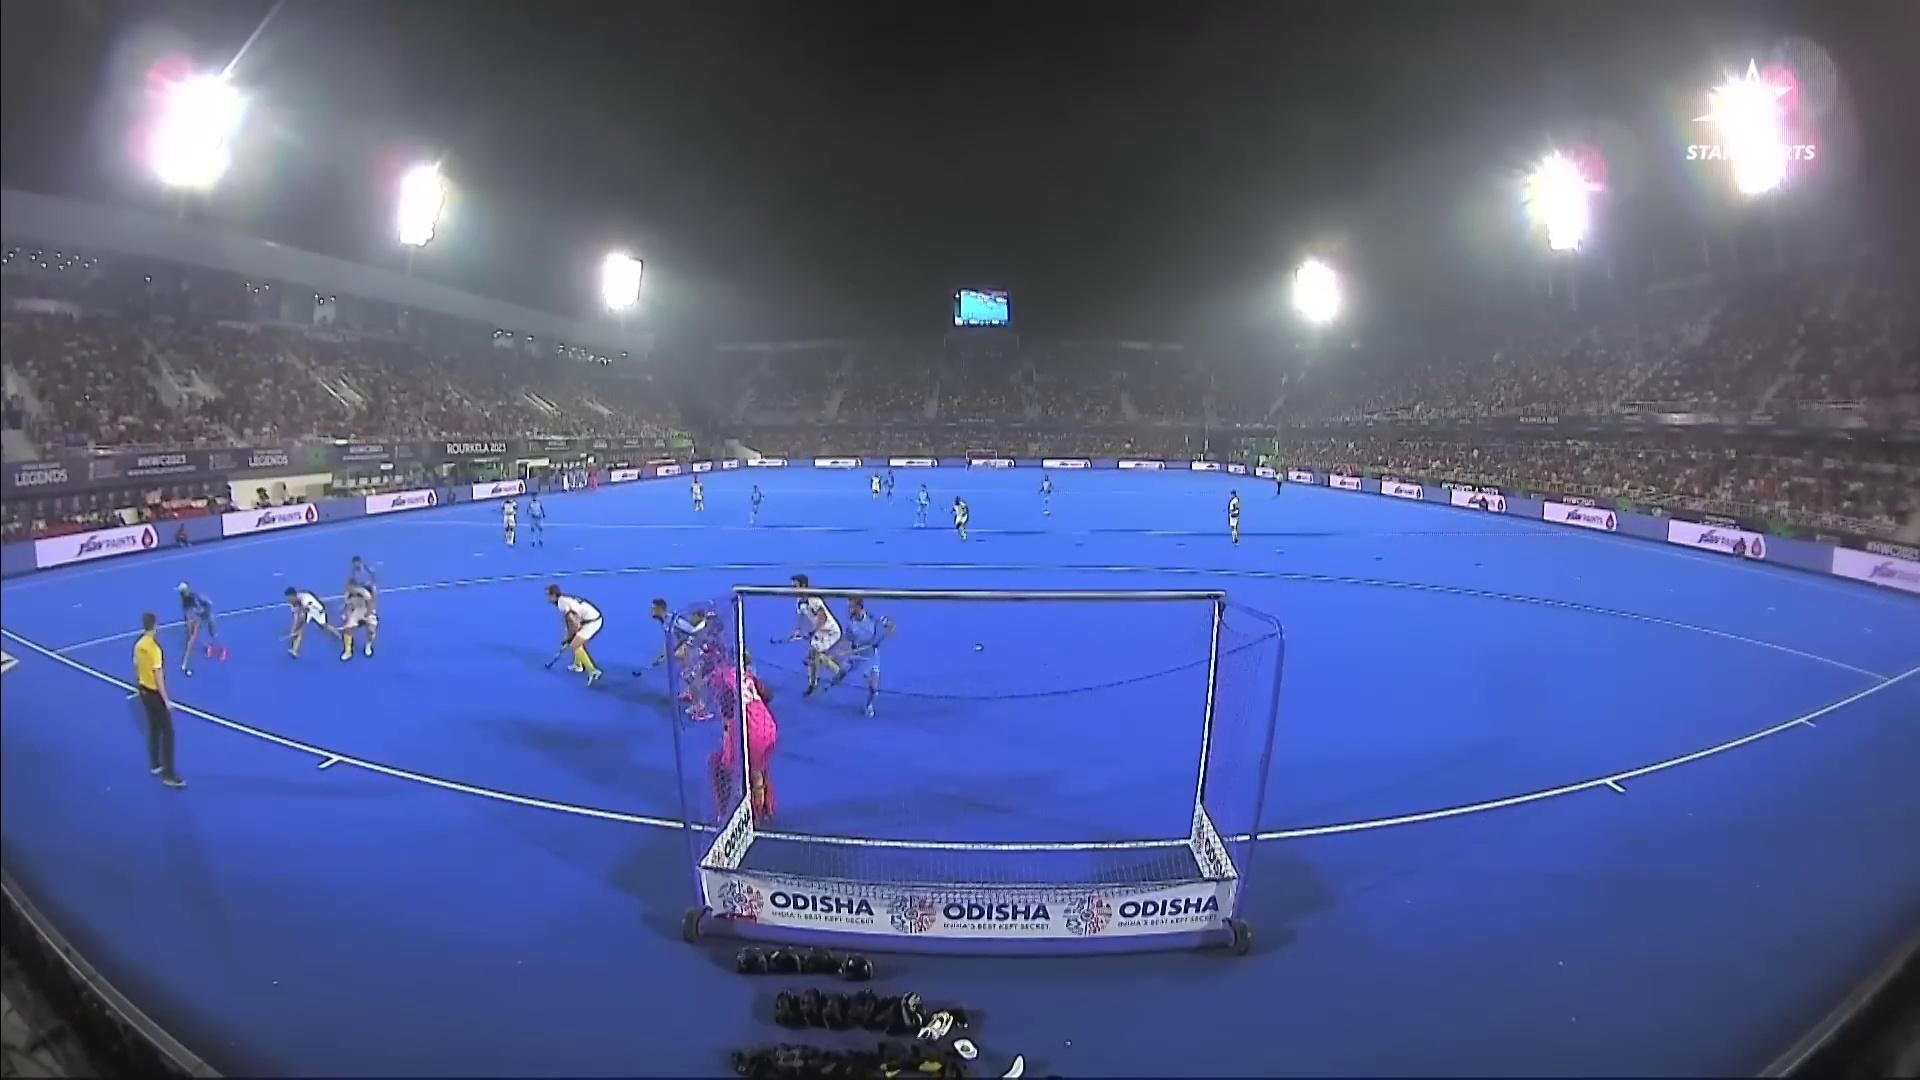ball: (185, 669, 194, 676)
